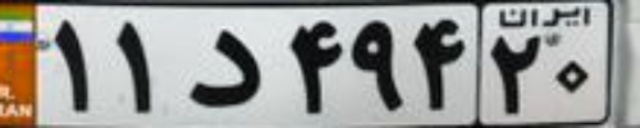0: (550, 59, 594, 93)
1: (107, 21, 157, 111), (50, 19, 91, 113)
2: (492, 36, 541, 113)
4: (285, 20, 342, 113), (412, 18, 465, 112)
9: (350, 19, 400, 111)
dal: (178, 29, 264, 108)
